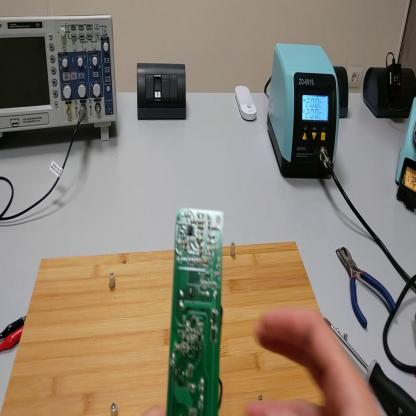hand: (248, 306, 383, 415)
high voltage board: (166, 211, 234, 416)
oscilloscope: (2, 16, 119, 150)
pliers: (336, 242, 397, 330)
screwdriver-: (326, 315, 416, 416)
socket: (362, 66, 415, 122), (333, 65, 350, 122)
welder base: (395, 97, 416, 214)
welder station: (268, 42, 340, 185)
working area: (2, 244, 349, 416)
